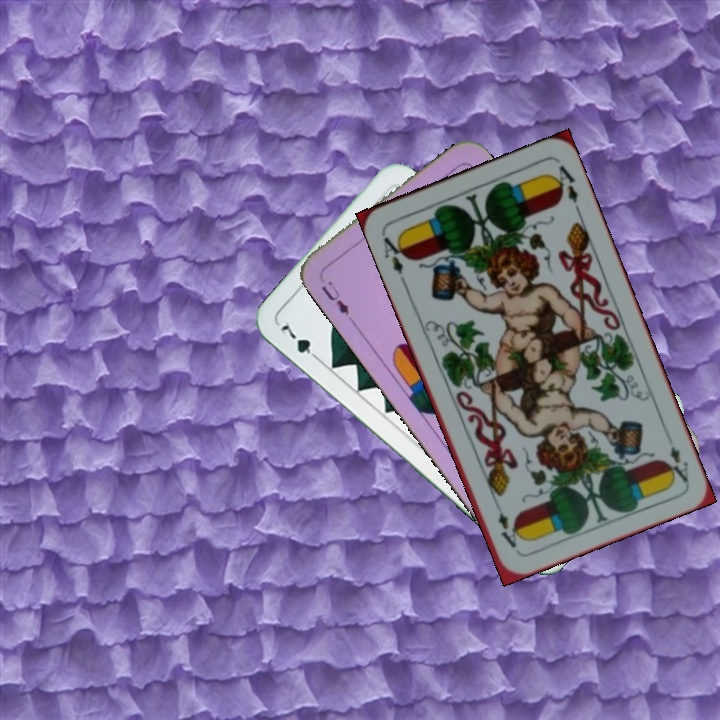EA: (378, 229, 411, 277), (662, 442, 691, 485)
EU: (315, 272, 352, 319)
G7: (276, 317, 324, 364)
